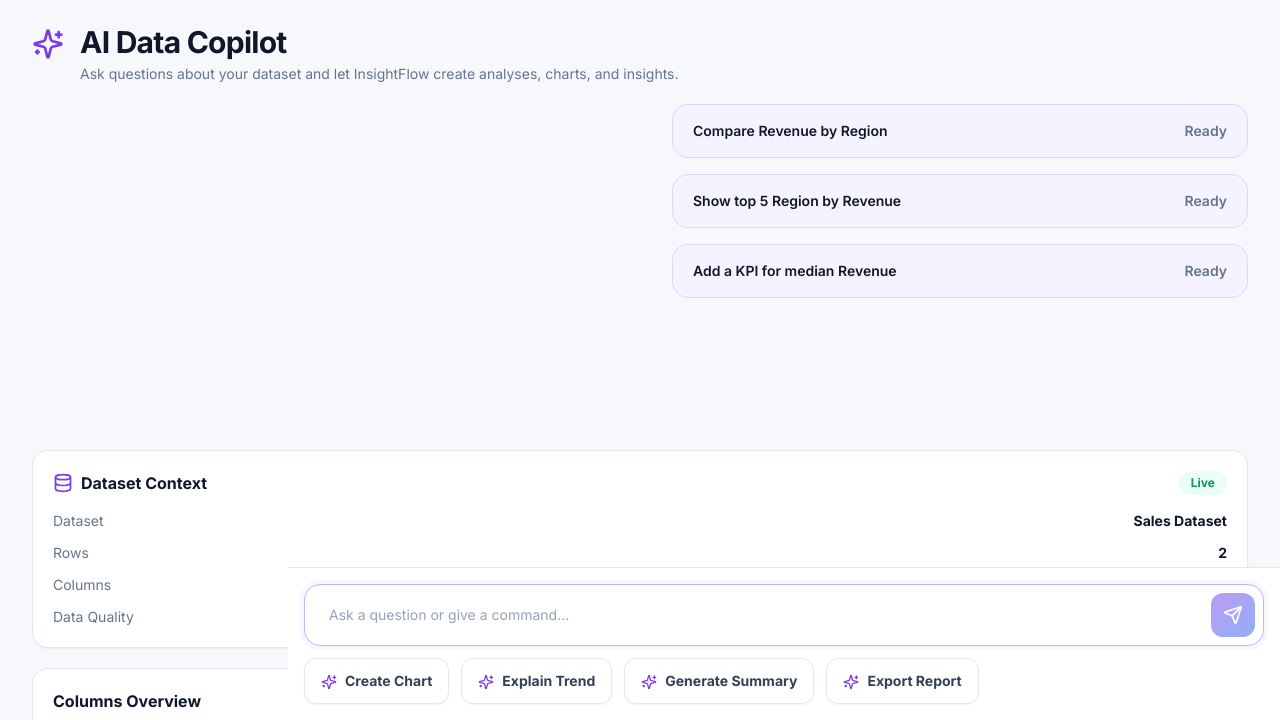
Scenario: ChatInterface AI commands validation in UI › shows validation message when an invalid command is sent
Note: Ask for salary columns which are not in the sales schema
Type "Show average salary by job title" into the field with placeholder "Ask a question or give a command..." at (758, 615), box [313,593,1203,637]
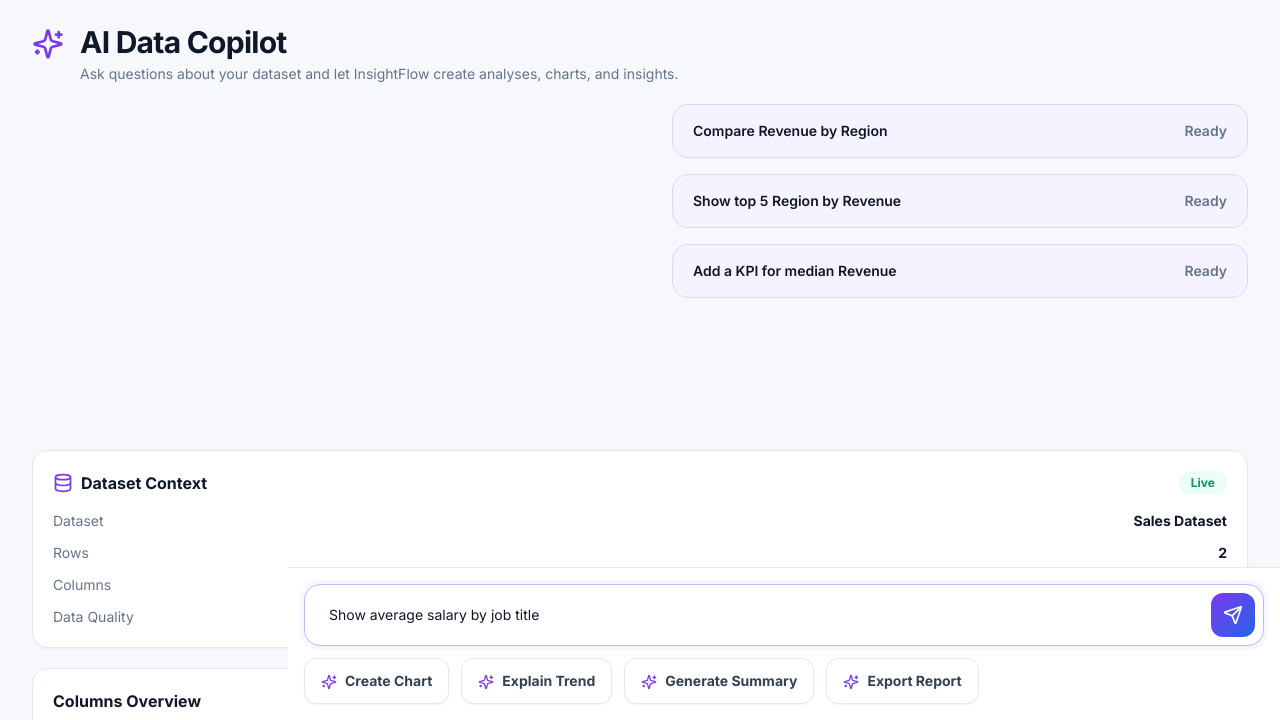
Click the button named "Send command" at (1233, 615), box [1211,593,1255,637]
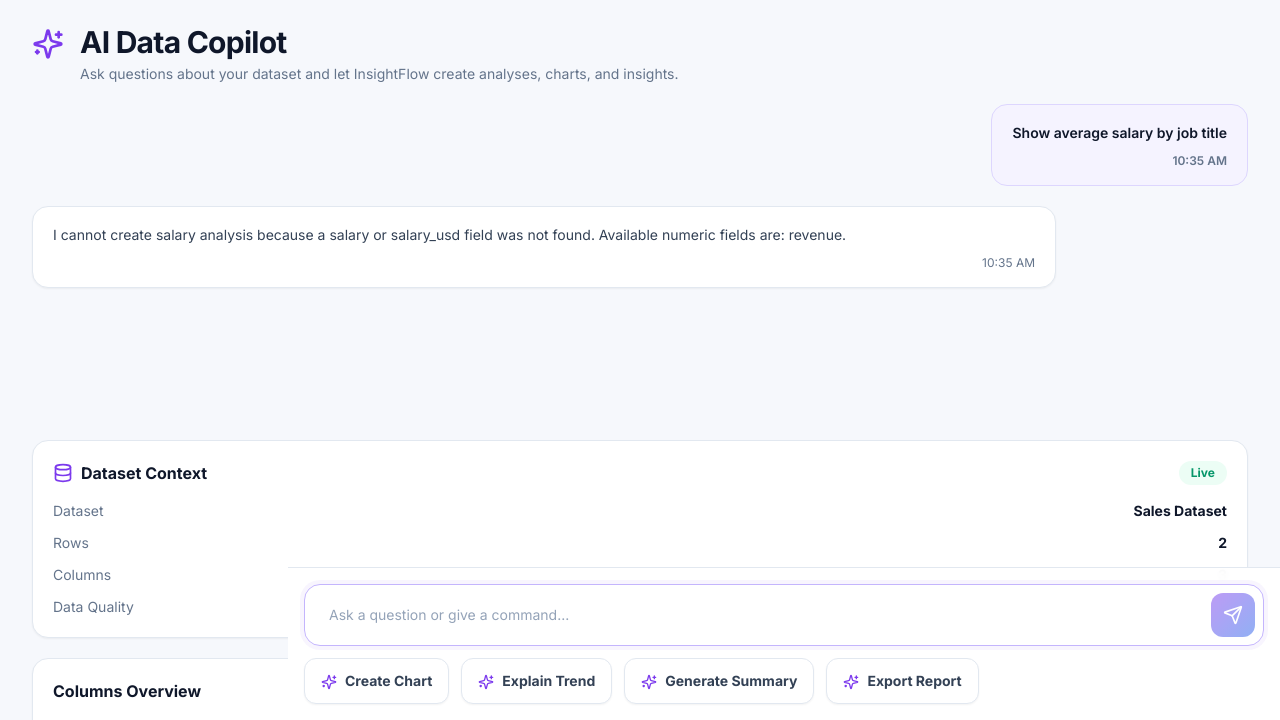
Result: the text "Show average salary by job title" is shown at [1012,121,1227,145]
Result: the text "I cannot create salary analysis because a salary or salary_usd field was not found" is shown at [53,226,846,243]
